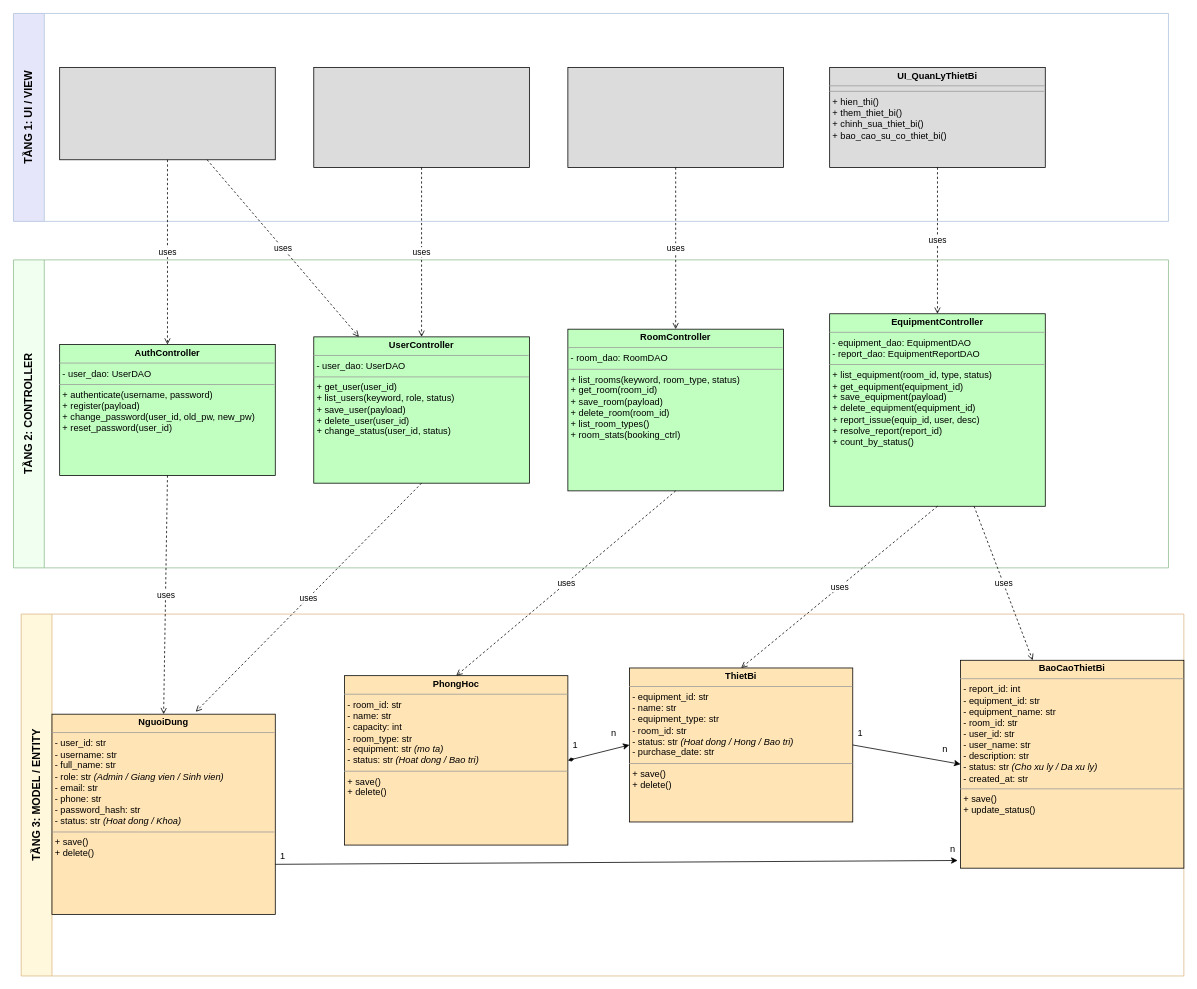
Some shapes in this 1197 by 989 pixel diagram are drawn without their labels. The centre of each missing label's shape, as x and y in pixels:
UI_DangNhap + hien_thi() + dang_nhap() + dang_xuat(): pixel 167 113
UI_QuanLyNguoiDung + hien_thi() + them_moi() + chinh_sua() + xoa(): pixel 421 117
UI_QuanLyPhong + hien_thi() + them_phong() + chinh_sua_phong() + xoa_phong(): pixel 675 117
